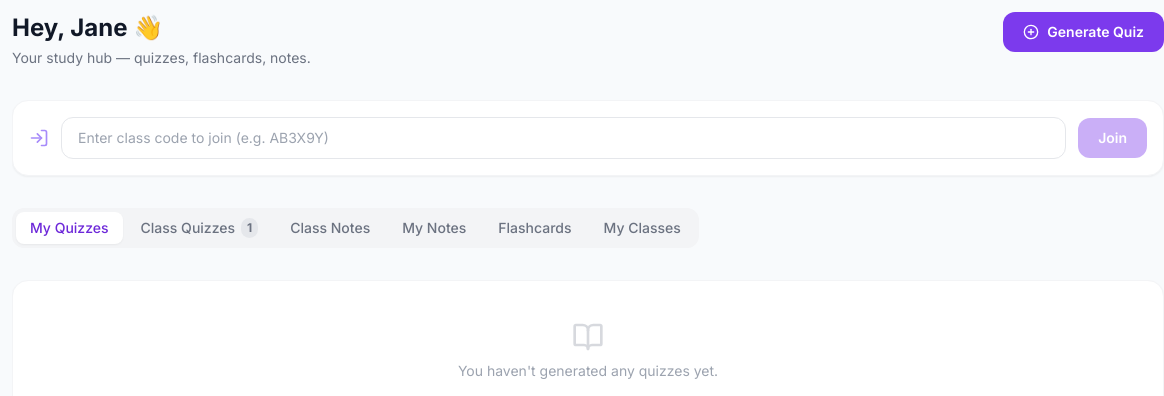
Scenario: StudentDashboard - FEAT-008 Quiz Sharing › Quiz cards display correctly › renders quiz with question count, difficulty, and class name
Click the button "Class Quizzes 1": (199, 228) [127,212,272,244]
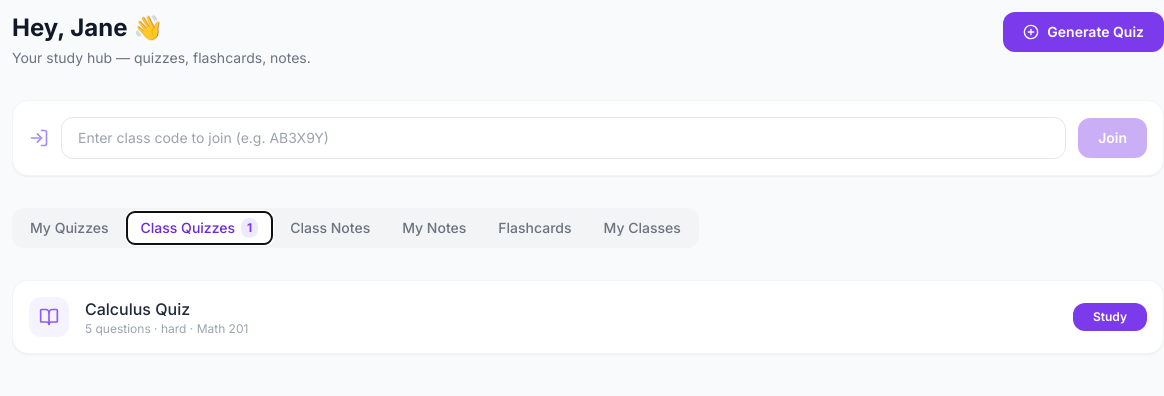
Check: the text "Calculus Quiz" is shown, box [85,299,190,319]
Check: the text "5 questions · hard · Math 201" is shown, box [85,321,248,336]
